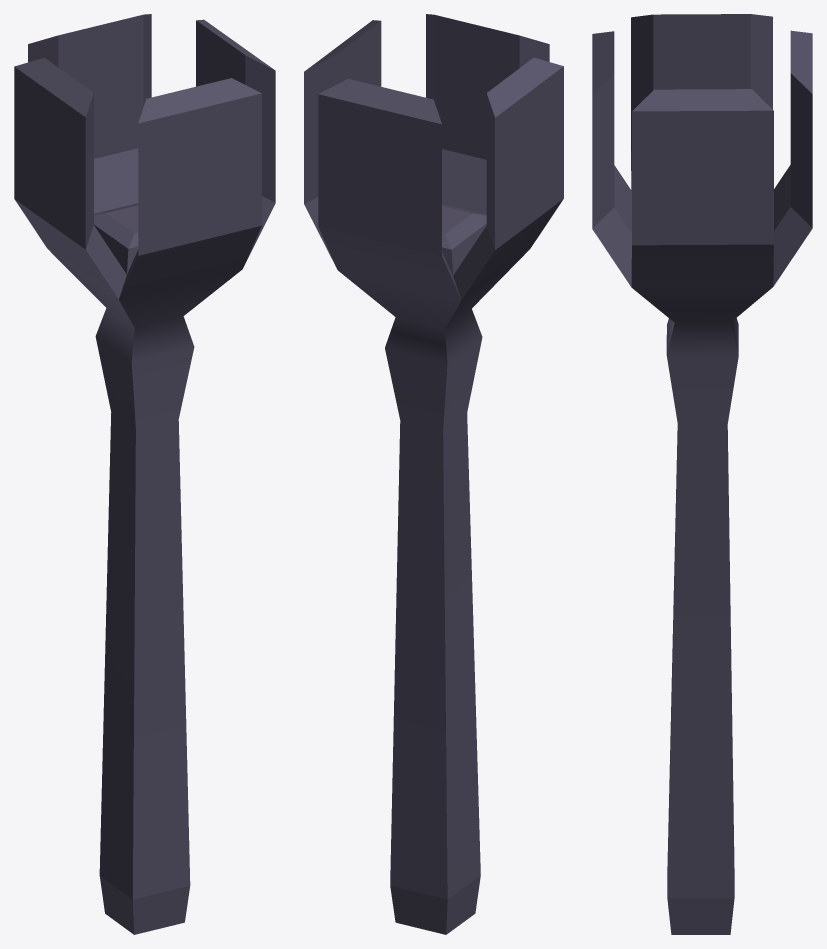
The model's file is TallTorch.fbx.
3 views of the same model, side by side, from view 1: azimuth 30°, elevation 25°; view 2: azimuth 150°, elevation 25°; view 3: azimuth 270°, elevation 25° (orthographic).
Parts seen in each view (by area): view 1: pCube107; view 2: pCube107; view 3: pCube107.
Boxes of the visible parts, x1,y1,x2,y2 form: pCube107: (14, 14, 275, 934); pCube107: (304, 14, 563, 934); pCube107: (592, 14, 812, 934).
Bounding box in the file's own units: 91.55 × 393 × 90.06.
